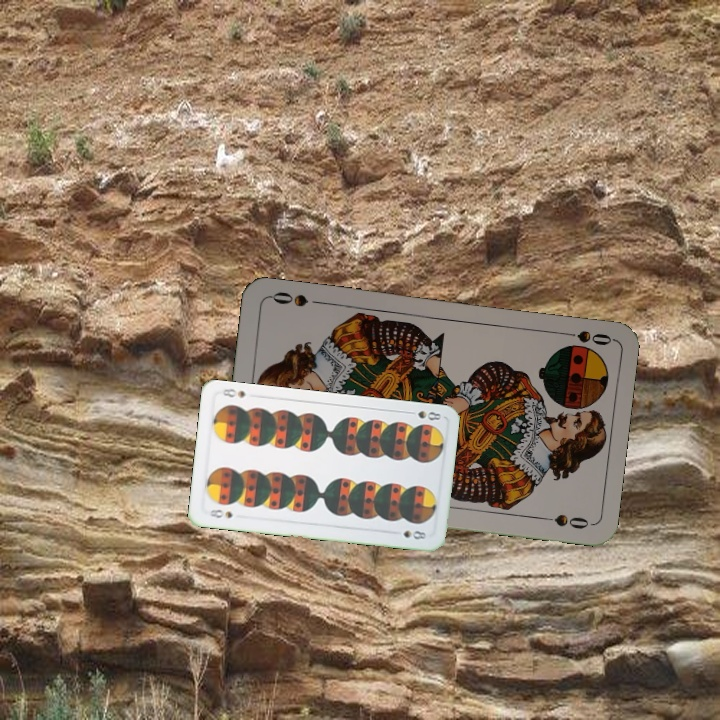S8: (403, 406, 444, 423), (205, 505, 235, 521)
SO: (554, 326, 614, 348)
